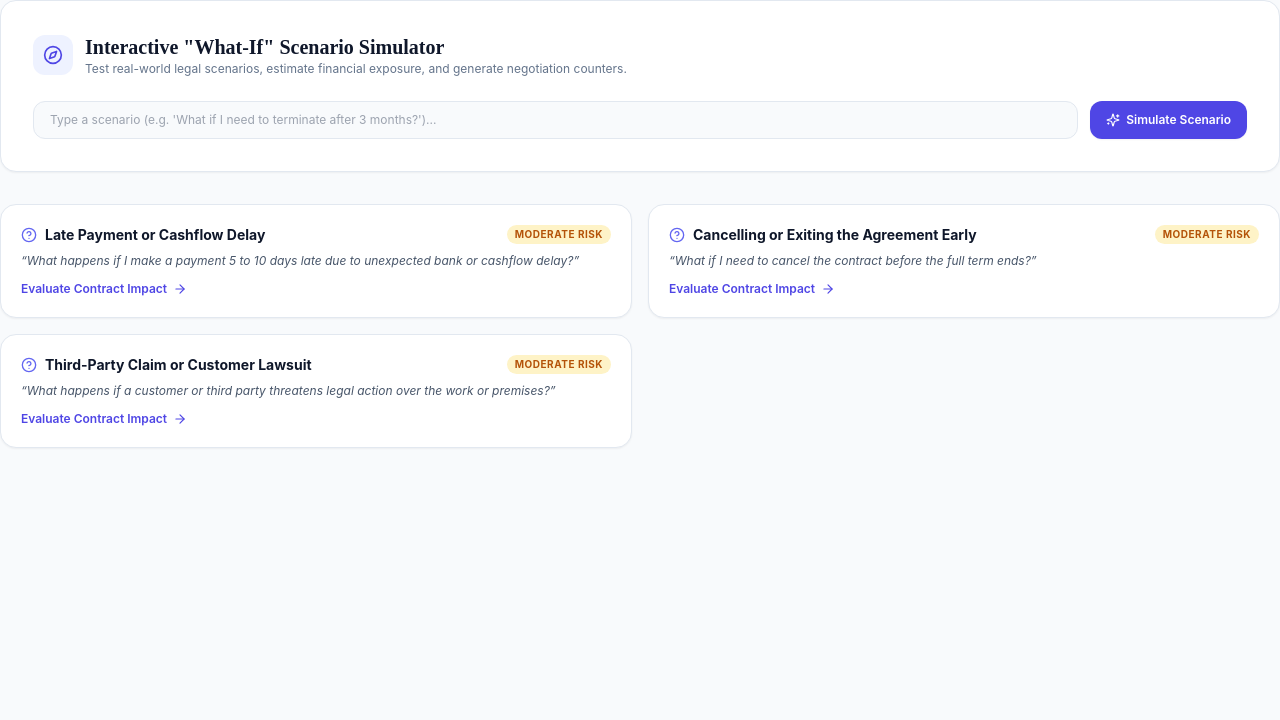
Scenario: E2E Integration & New UI Components › ScenarioSimulator renders preset scenarios and handles custom queries
Expected: the heading "Interactive \"What-If\" Scenario Simulator" is shown, [85,36,444,58]
// Click on a scenario card to view detailed breakdown
Click the text "Late Payment or Cashflow Delay": (155, 235) [45,225,265,245]
(page scrolled)
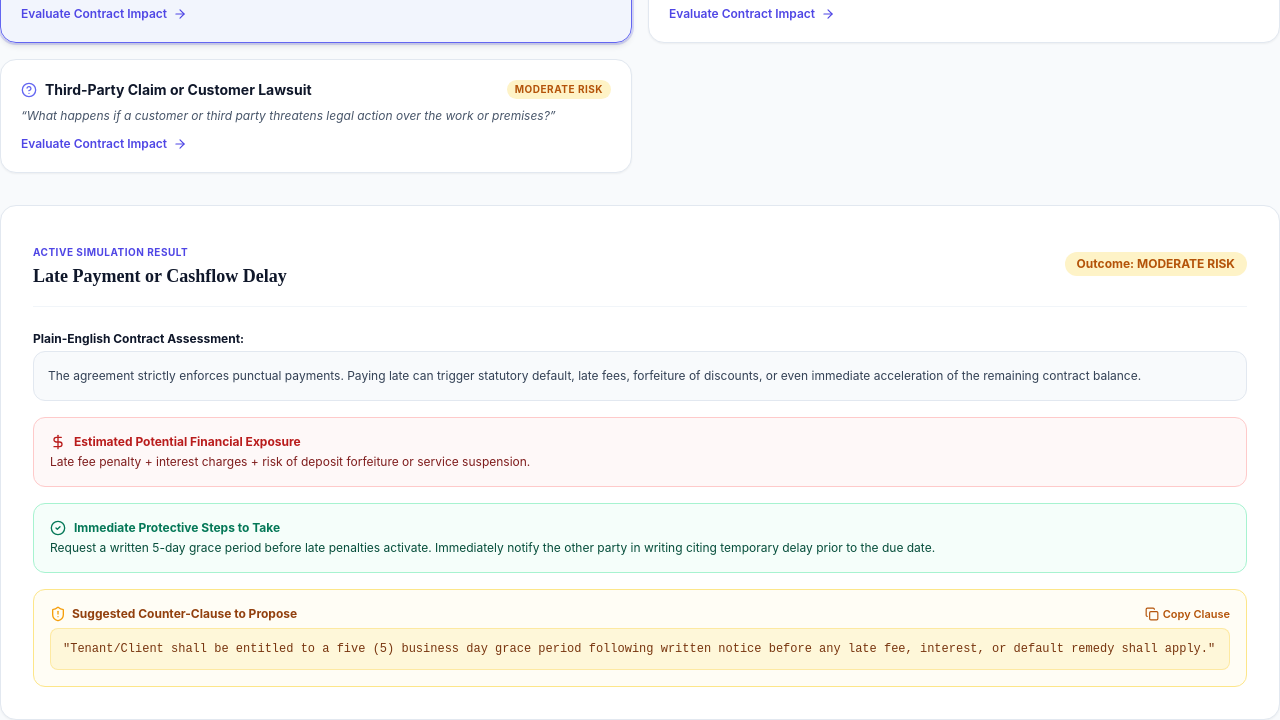
Expected: the text "Active Simulation Result" is shown, [33,246,188,258]
Expected: the heading "Plain-English Contract Assessment:" is shown, [33,331,244,346]
Expected: the text "Immediate Protective Steps to Take" is shown, [74,520,280,536]
